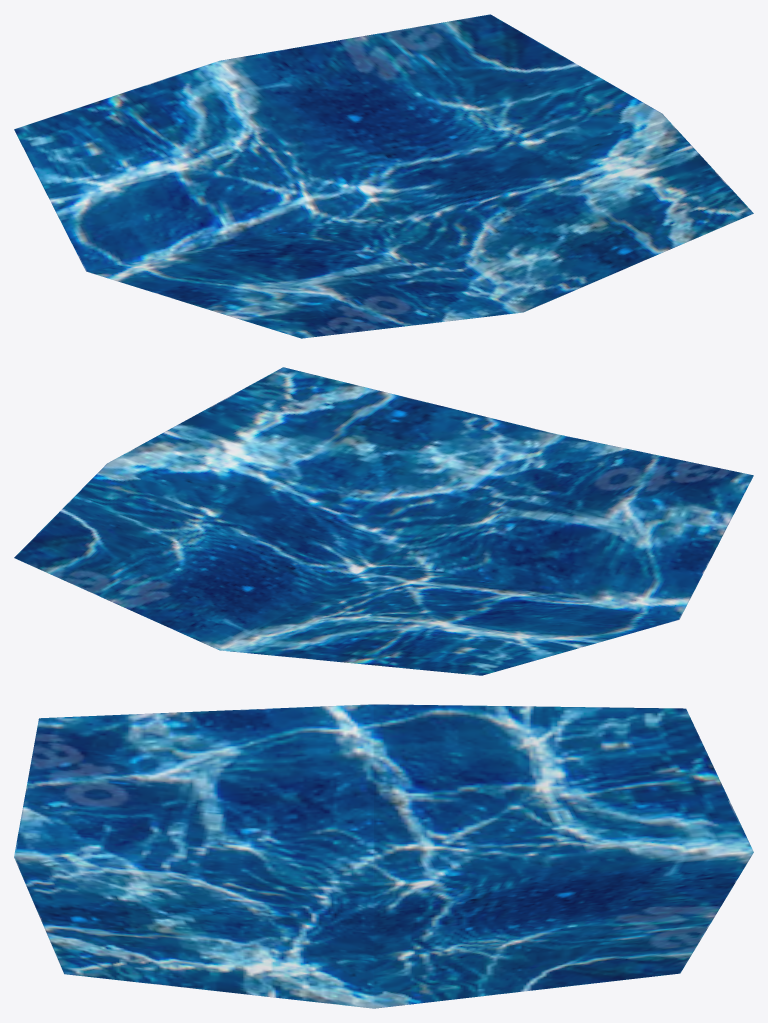
The model's file is bebedero_agua.fbx.
3 views of the same model, one above another, from view 1: azimuth 30°, elevation 25°; view 2: azimuth 150°, elevation 25°; view 3: azimuth 270°, elevation 25° (orthographic). The views are drawn at different scales.
Visible parts, largest first — view 1: Plane; view 2: Plane; view 3: Plane.
Part boxes in pixels (<box>): Plane: <box>14,14,753,338</box>; Plane: <box>14,367,753,675</box>; Plane: <box>14,704,753,1008</box>.
Bounding box in the file's own units: 237 × 15.94 × 229.
1 material, 1 textured.
